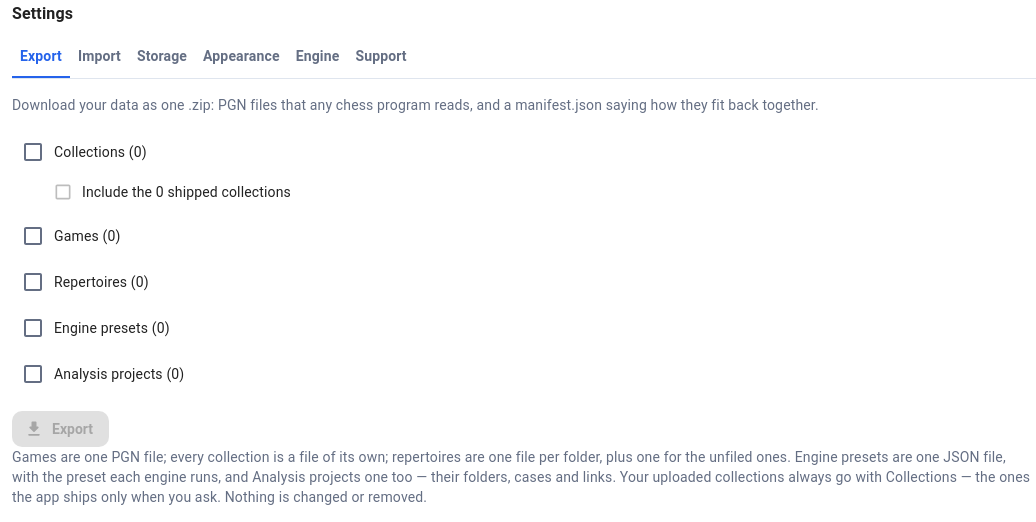
Test: the Export tab › starts with nothing ticked and Export off; the shipped box waits on Collections
Expected: the checkbox labelled "Games (0)" is not checked, [21,224,120,248]
Expected: the checkbox labelled "Repertoires (0)" is not checked, [21,270,149,294]
Click the checkbox labelled "Collections (0)" at (84, 152), box [21,140,147,164]
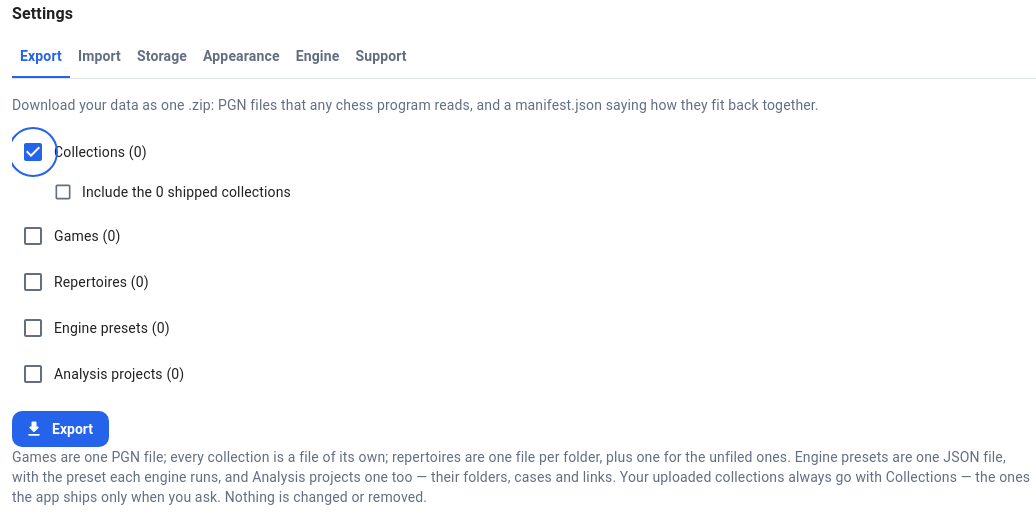
Now the checkbox labelled "Include the 0 shipped collections" is enabled, box [53,182,291,202]
Now the button with test id "settings-export-run" is enabled, box [12,410,109,447]
Click the checkbox labelled "Collections (0)" at (84, 152), box [21,140,147,164]
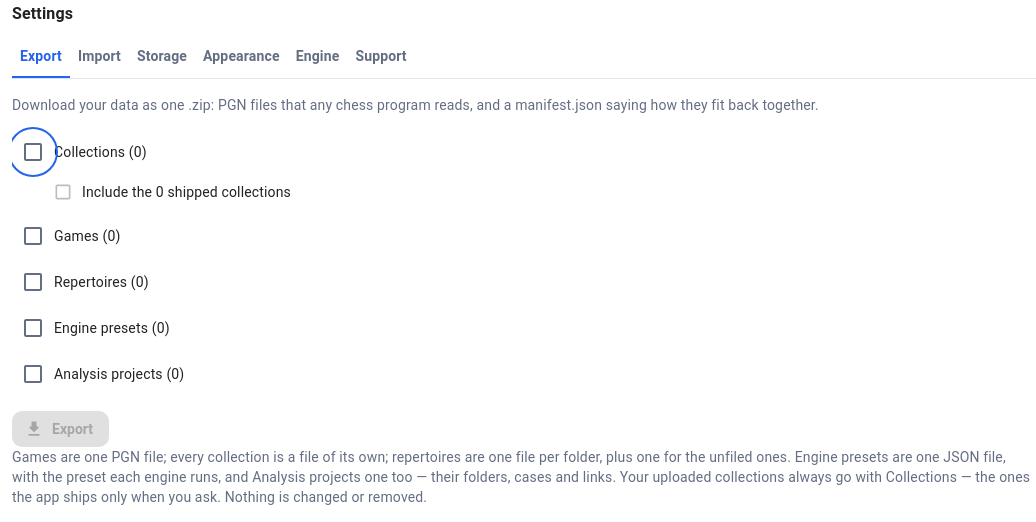
Now the button with test id "settings-export-run" is disabled, box [12,410,109,447]
